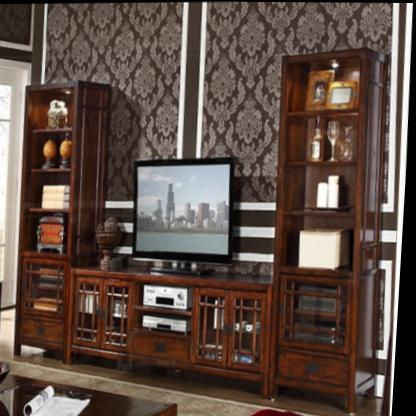Cupboard: (269, 45, 379, 416)
TV stand: (72, 246, 281, 399)
